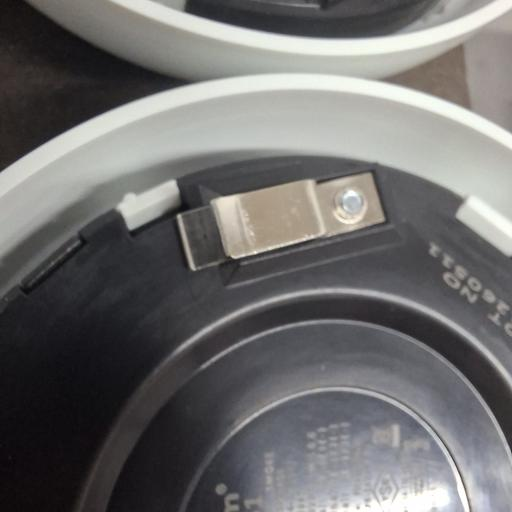yayli: (175, 168, 388, 272)
